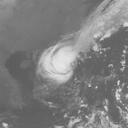cyclone: (37, 21, 109, 84)
